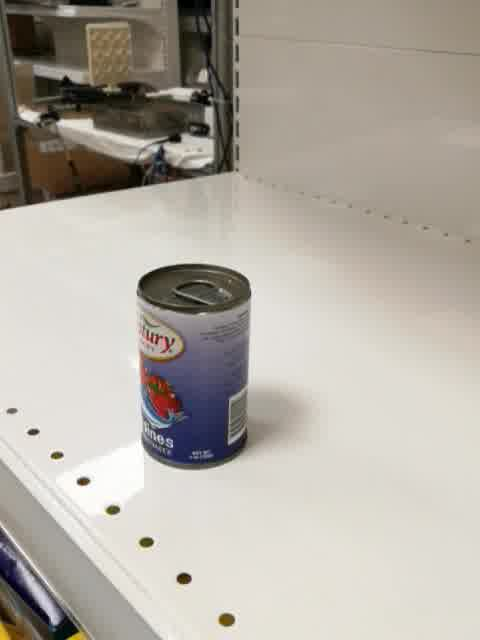sardine: (136, 260, 251, 469)
